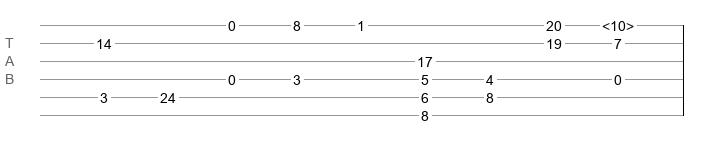0: (228, 72, 236, 82), (228, 18, 236, 28), (614, 72, 622, 82)
1: (357, 18, 365, 28)
14: (96, 36, 112, 46)
17: (417, 54, 433, 64)
19: (546, 36, 562, 46)
20: (546, 18, 562, 28)
24: (160, 90, 176, 100)
3: (100, 90, 108, 100), (293, 72, 301, 82)
4: (486, 72, 494, 82)
5: (421, 72, 429, 82)
6: (421, 90, 429, 100)
7: (614, 36, 622, 46)
8: (293, 18, 301, 28), (421, 108, 429, 118), (486, 90, 494, 100)
harmonic: (602, 18, 634, 28)
